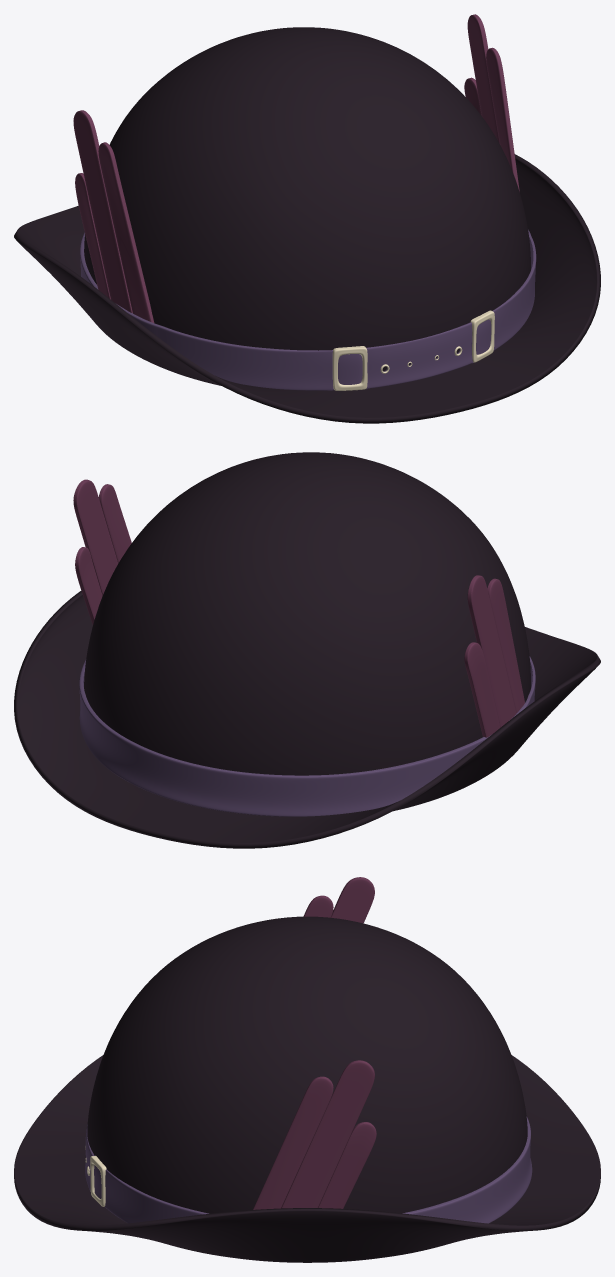
The model's file is hat1.glb.
3 views of the same model, one above another, from view 1: azimuth 30°, elevation 25°; view 2: azimuth 150°, elevation 25°; view 3: azimuth 270°, elevation 25° (orthographic). The views are drawn at different scales.
Visible parts, largest first — view 1: Cube_Cube.008, Cube.001_Cube.002, Cube.002_Cube.003; view 2: Cube_Cube.008, Cube.001_Cube.002; view 3: Cube_Cube.008, Cube.001_Cube.002, Cube.002_Cube.003.
Boxes of the visible parts, x1,y1,x2,y2 form: Cube_Cube.008: (14, 27, 600, 423); Cube.001_Cube.002: (73, 14, 536, 390); Cube.002_Cube.003: (332, 310, 494, 390); Cube_Cube.008: (14, 452, 600, 848); Cube.001_Cube.002: (73, 479, 535, 816); Cube_Cube.008: (14, 916, 600, 1262); Cube.001_Cube.002: (85, 877, 532, 1223); Cube.002_Cube.003: (90, 1155, 106, 1206).
Bounding box in the file's own units: 2.4 × 1.25 × 2.78.
